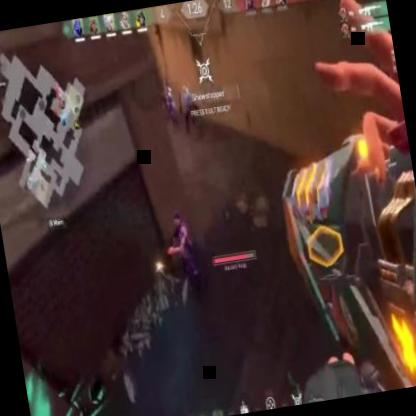enemy: (163, 205, 201, 287), (178, 82, 201, 140), (161, 76, 179, 126)
enemy_head: (172, 210, 182, 226), (180, 83, 188, 94), (164, 78, 170, 90)
